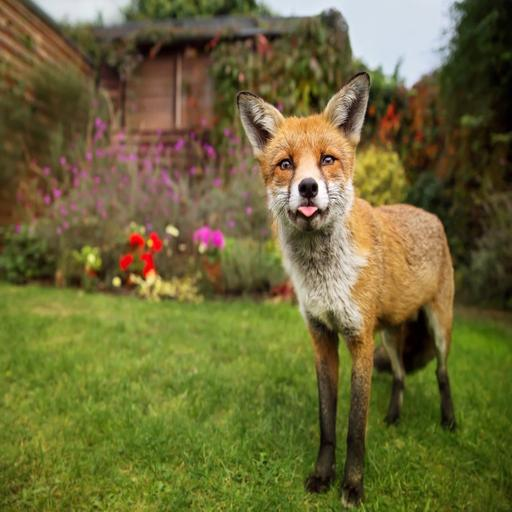Fox: (229, 66, 467, 505)
